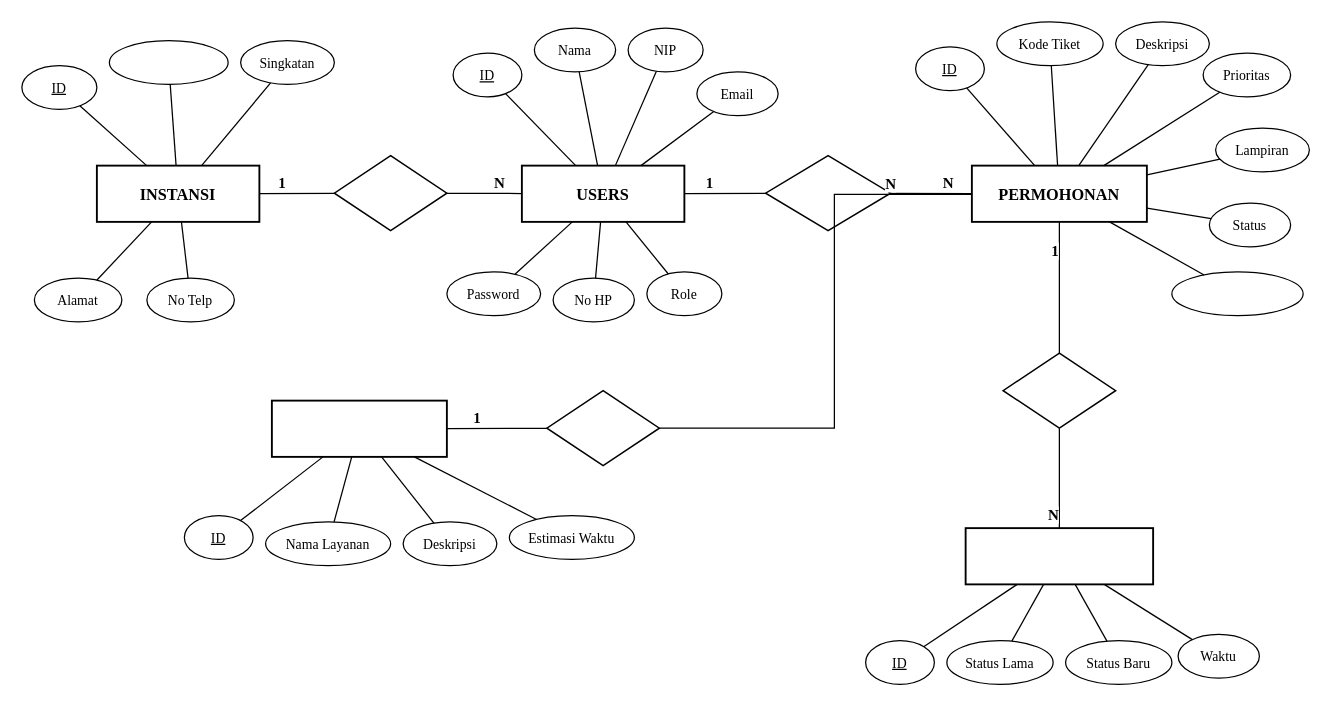
Some shapes in this 1331 by 706 pixel diagram are drawn without their labels. The centre of each missing label's shape, as x and y in pixels:
"Dokumen Hasil" belongs at pixel 1237 293.
"JENIS LAYANAN" belongs at pixel 358 428.
"Meliputi" belongs at pixel 602 427.
"Memiliki" belongs at pixel 390 192.
"Mencatat" belongs at pixel 1059 390.
"Mengajukan" belongs at pixel 827 192.
"Nama Instansi" belongs at pixel 168 61.
"RIWAYAT STATUS" belongs at pixel 1059 556.
